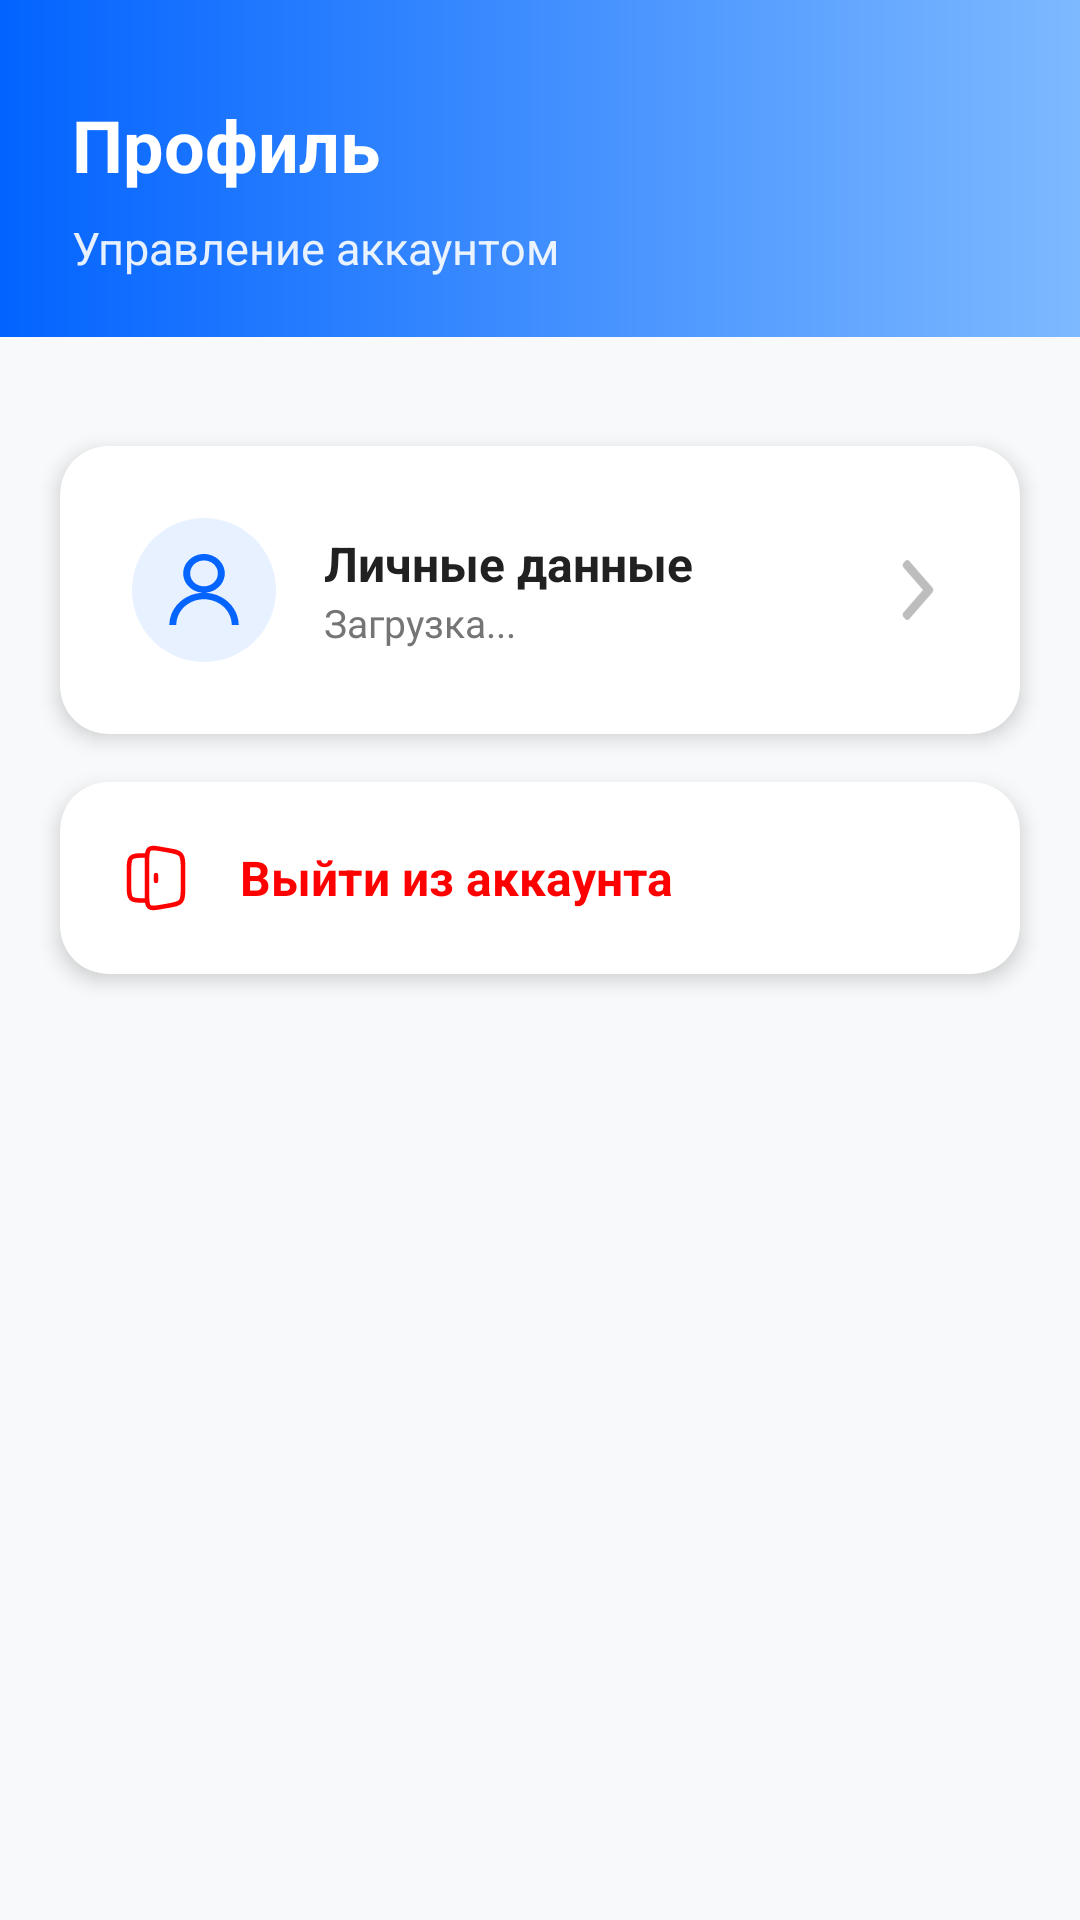

Named icons in this screenshot (1080w x 1920h) and their centers, (x,y):
arrow right: (918,590)
exit: (156,878)
human profile: (204,589)
